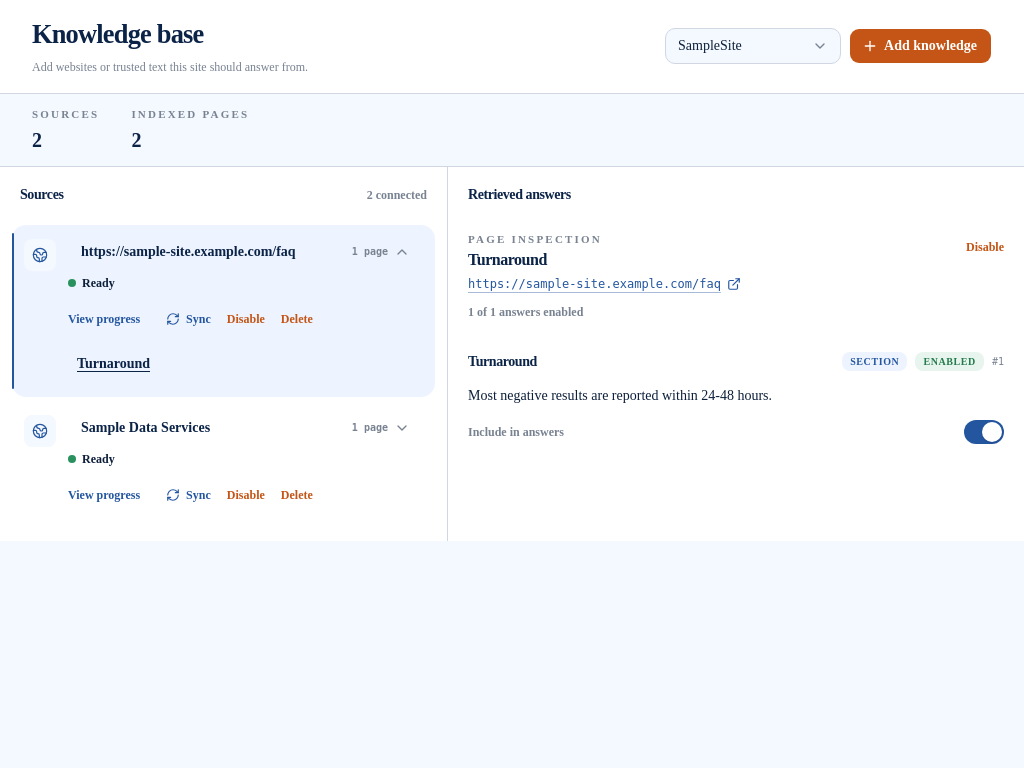
knowledge console › clicking a source card expands its pages and collapses every other source
Check: the button "Turnaround" is shown, box [68, 348, 423, 382]
Check: the button "Privacy Rights" is not shown
Click the button "Sample Data Services 1 page" at [146, 428], box [68, 414, 423, 444]
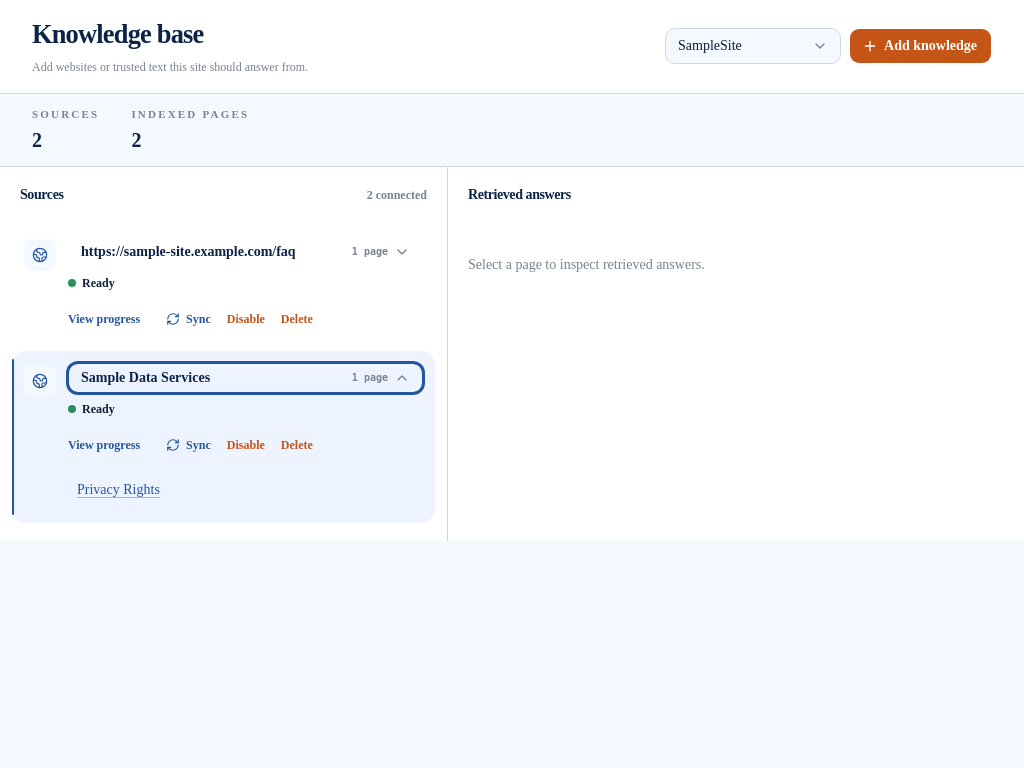
Check: the button "Privacy Rights" is shown, box [68, 474, 423, 508]
Check: the button "Turnaround" is gone
